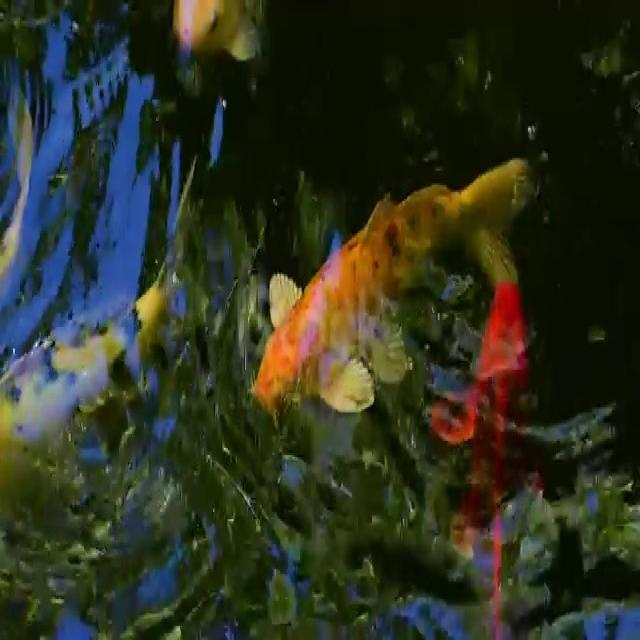fish: (245, 158, 553, 420), (2, 256, 210, 506), (428, 275, 551, 640), (172, 0, 282, 89)
